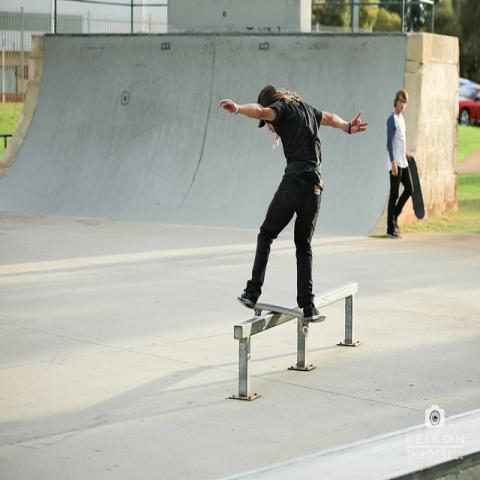car: (458, 83, 480, 127), (460, 77, 477, 87)
